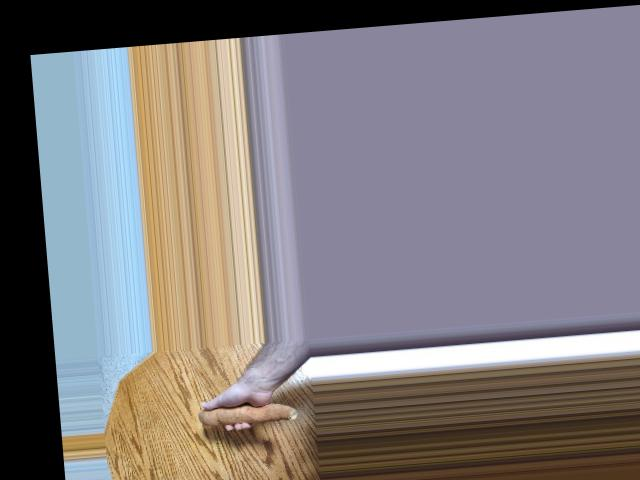sweet_potato: (196, 390, 299, 428)
